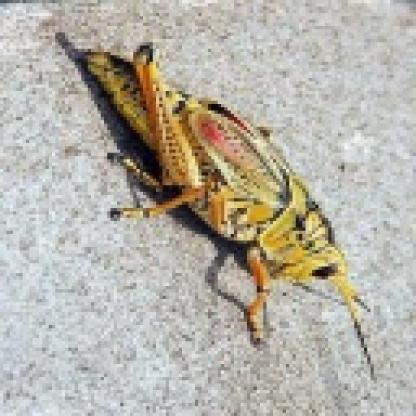grasshopper: (80, 32, 390, 366)
